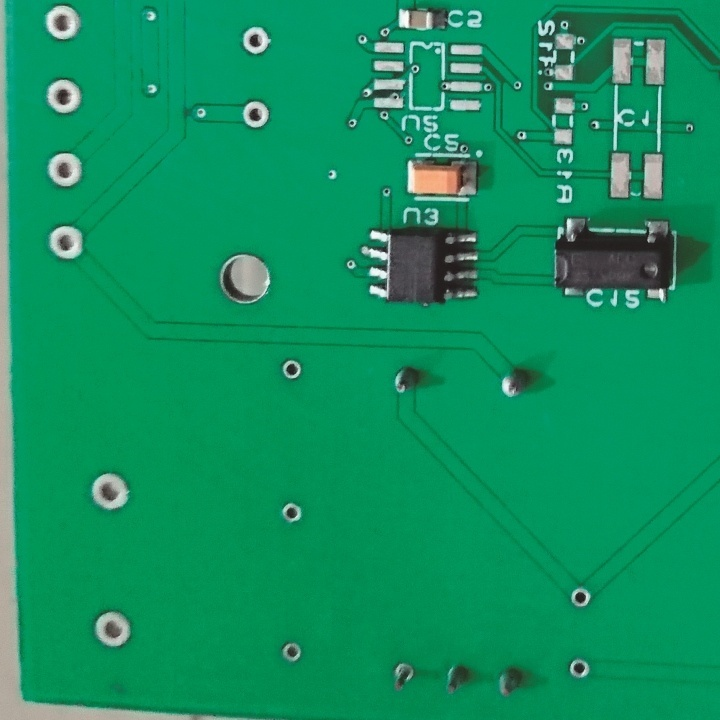F: (90, 473, 135, 514), (40, 3, 84, 44), (96, 610, 137, 652), (44, 149, 84, 189), (45, 223, 85, 262), (44, 81, 85, 118), (239, 22, 272, 58), (239, 100, 273, 131), (568, 583, 596, 616), (390, 658, 417, 692), (567, 657, 593, 684), (280, 358, 305, 383), (281, 500, 304, 526), (281, 640, 303, 664)
